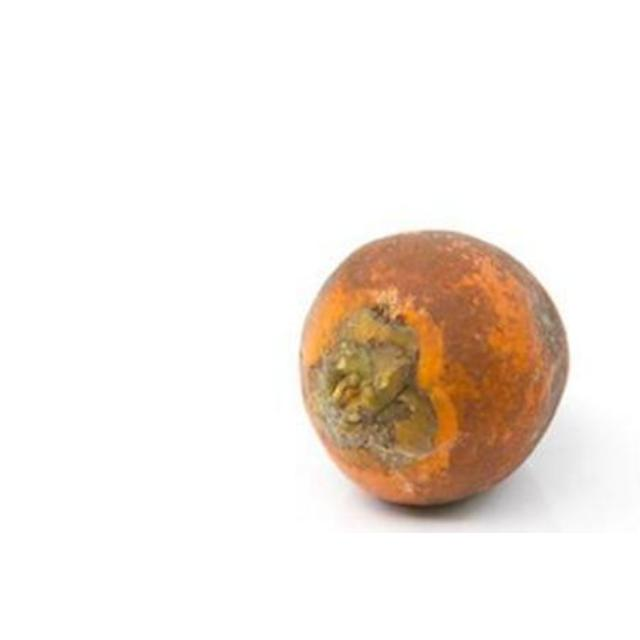good: (297, 231, 572, 511)
